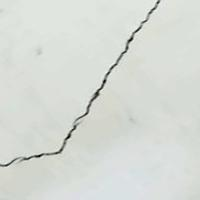crack: (0, 1, 161, 166)
